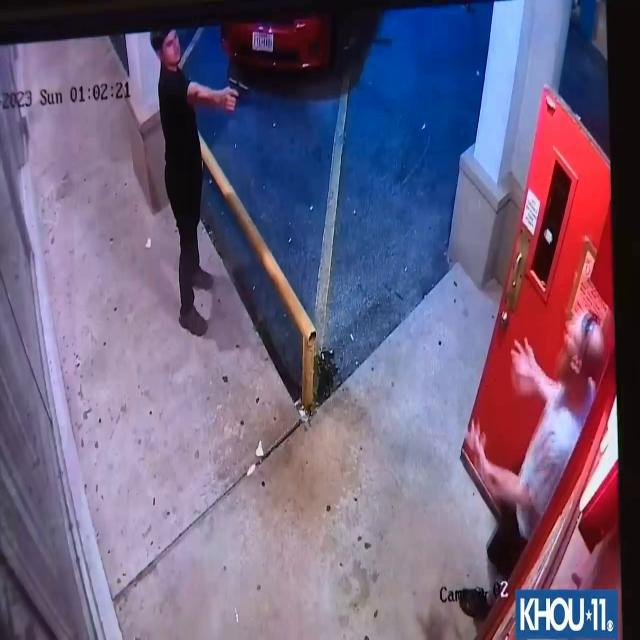normal: (468, 298, 608, 602)
penembakan: (146, 26, 251, 340)
